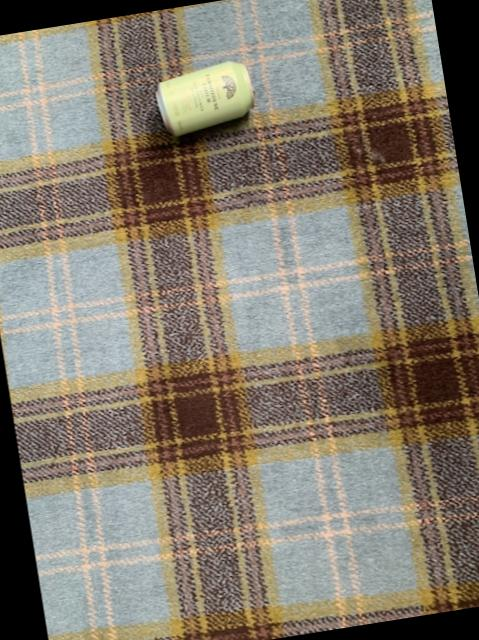metal: (153, 60, 251, 133)
